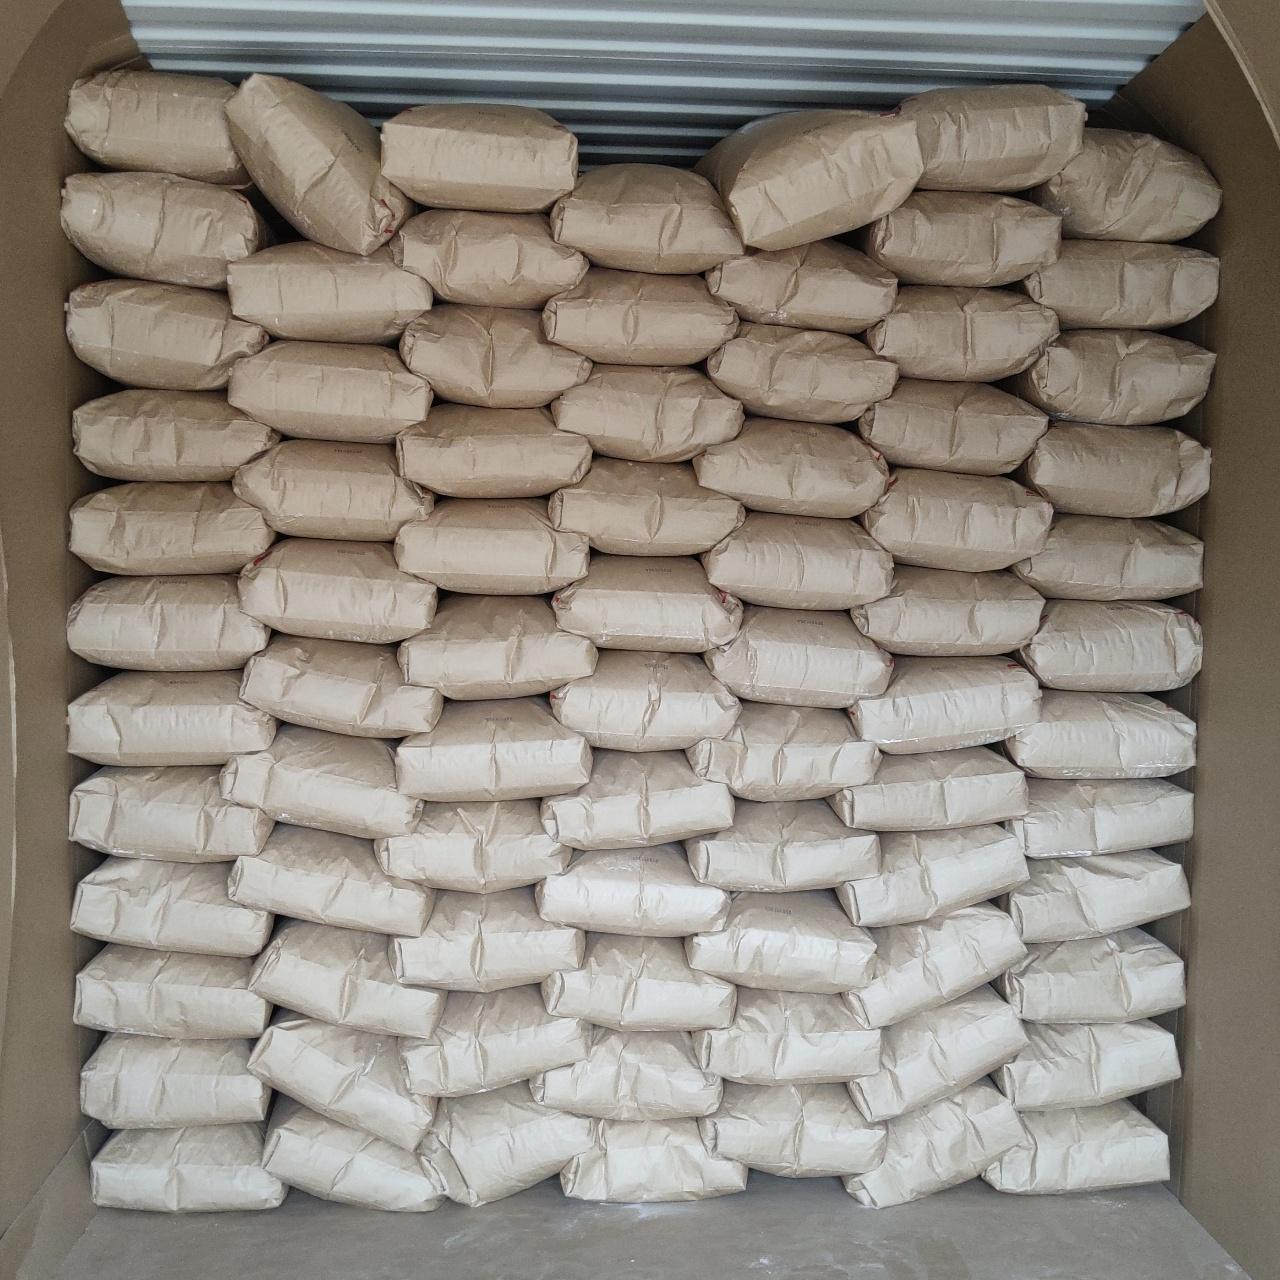sack: (228, 76, 414, 252), (700, 110, 918, 246), (250, 1010, 434, 1148), (62, 172, 270, 286), (850, 986, 1022, 1120), (844, 1080, 1026, 1206), (250, 920, 444, 1036), (230, 824, 432, 934), (222, 726, 420, 836), (420, 1082, 598, 1204), (66, 68, 250, 186), (66, 280, 266, 388), (848, 902, 1022, 1026), (1032, 128, 1220, 238), (402, 986, 590, 1094), (264, 1098, 442, 1212), (552, 164, 742, 270), (230, 242, 430, 342), (400, 596, 596, 698), (382, 104, 574, 208), (234, 440, 432, 540), (242, 634, 440, 734), (894, 86, 1084, 190), (230, 340, 430, 438), (240, 538, 436, 638), (400, 304, 590, 406), (392, 888, 582, 990), (398, 698, 590, 798), (68, 672, 276, 764), (72, 860, 270, 956), (390, 210, 588, 306), (694, 418, 886, 516), (68, 576, 268, 670), (706, 322, 894, 422), (860, 192, 1060, 286), (70, 768, 270, 862), (862, 468, 1052, 566), (838, 826, 1024, 926), (1008, 332, 1214, 422), (544, 268, 736, 364), (550, 458, 742, 554), (706, 606, 890, 706), (544, 934, 734, 1030), (76, 944, 270, 1038), (864, 286, 1058, 380), (1016, 422, 1210, 516), (70, 484, 272, 574), (544, 750, 732, 846), (690, 702, 878, 798), (552, 652, 736, 750), (686, 892, 870, 990), (74, 390, 278, 478), (552, 366, 742, 460), (702, 512, 892, 606), (554, 554, 740, 650), (858, 380, 1046, 474), (850, 656, 1038, 750), (396, 498, 588, 590), (376, 800, 568, 892), (686, 800, 878, 892), (82, 1034, 270, 1126), (398, 404, 590, 494), (536, 844, 728, 934), (708, 240, 894, 332), (692, 988, 878, 1080), (998, 930, 1182, 1022), (1022, 240, 1218, 326), (852, 566, 1042, 654), (700, 1084, 884, 1174), (1004, 852, 1188, 942), (92, 1124, 284, 1210), (984, 1100, 1166, 1190), (532, 1030, 718, 1118), (1020, 600, 1200, 690), (996, 1022, 1178, 1110), (830, 748, 1024, 830), (1012, 514, 1200, 598), (1004, 692, 1194, 774), (560, 1120, 746, 1200), (1006, 778, 1190, 856)
